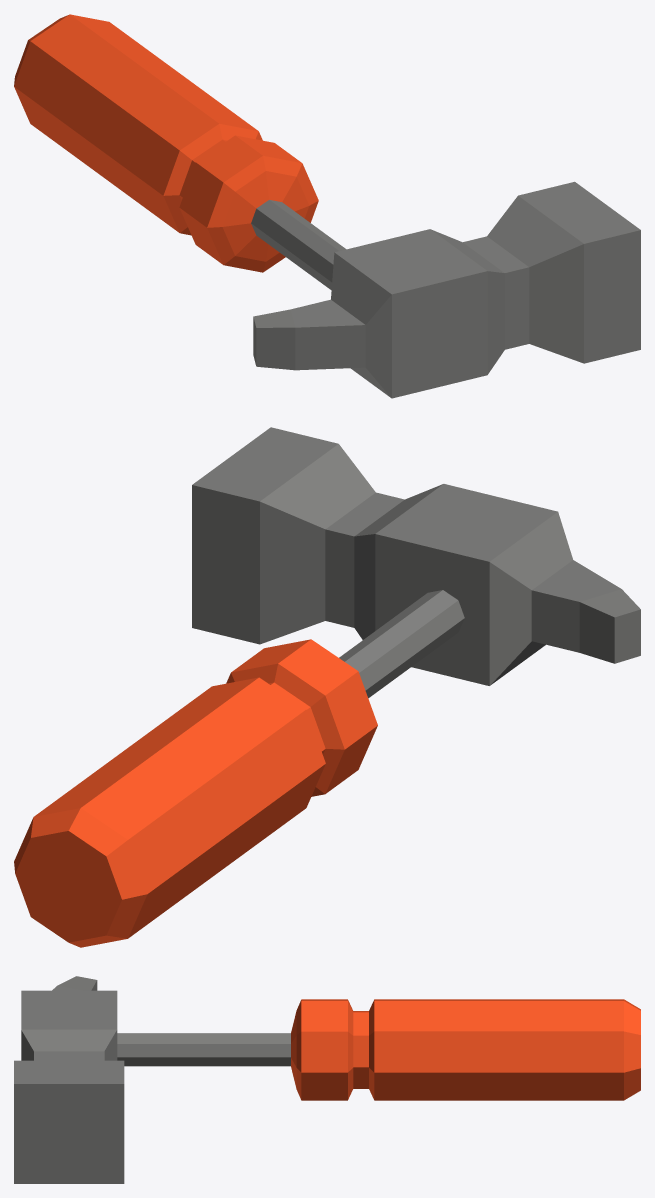
Rendered from hammer.obj.
The picture shows the model from 3 angles, top to bottom: view 1: azimuth 30°, elevation 25°; view 2: azimuth 150°, elevation 25°; view 3: azimuth 270°, elevation 25°; orthographic projection. The views are drawn at different scales.
Parts seen in each view (by area): view 1: Cube, Cylinder; view 2: Cube, Cylinder; view 3: Cylinder, Cube.
Part boxes in pixels (x1,y1,x2,y2): Cube: (253, 181, 640, 398); Cylinder: (14, 14, 346, 290); Cube: (192, 427, 640, 685); Cylinder: (14, 590, 464, 947); Cylinder: (117, 999, 640, 1100); Cube: (14, 976, 124, 1183).
Size of the model in its own units: 6.85 by 2.26 by 12.82.
